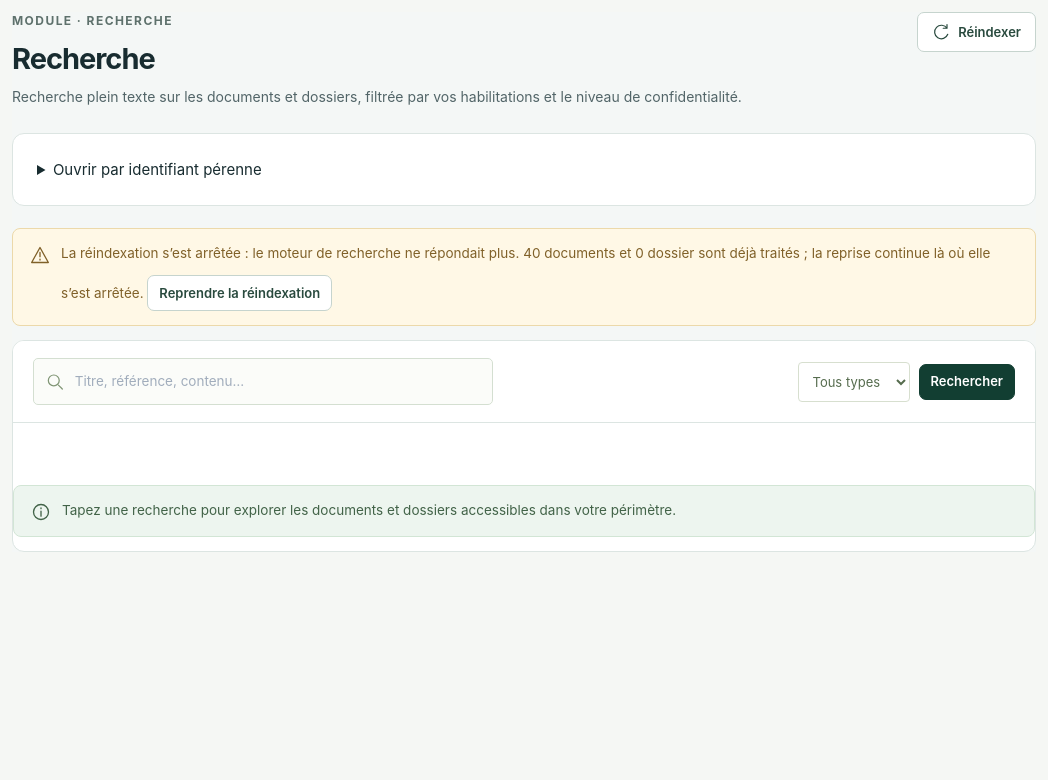
Test: une réindexation arrêtée est signalée au retour sur la page et la reprise continue la même exécution
Expected: the text "40 documents et 0 dossier sont déjà traités" is shown, [61,244,1018,311]
Click the button "Reprendre la réindexation" at (240, 293), box [147,275,332,311]
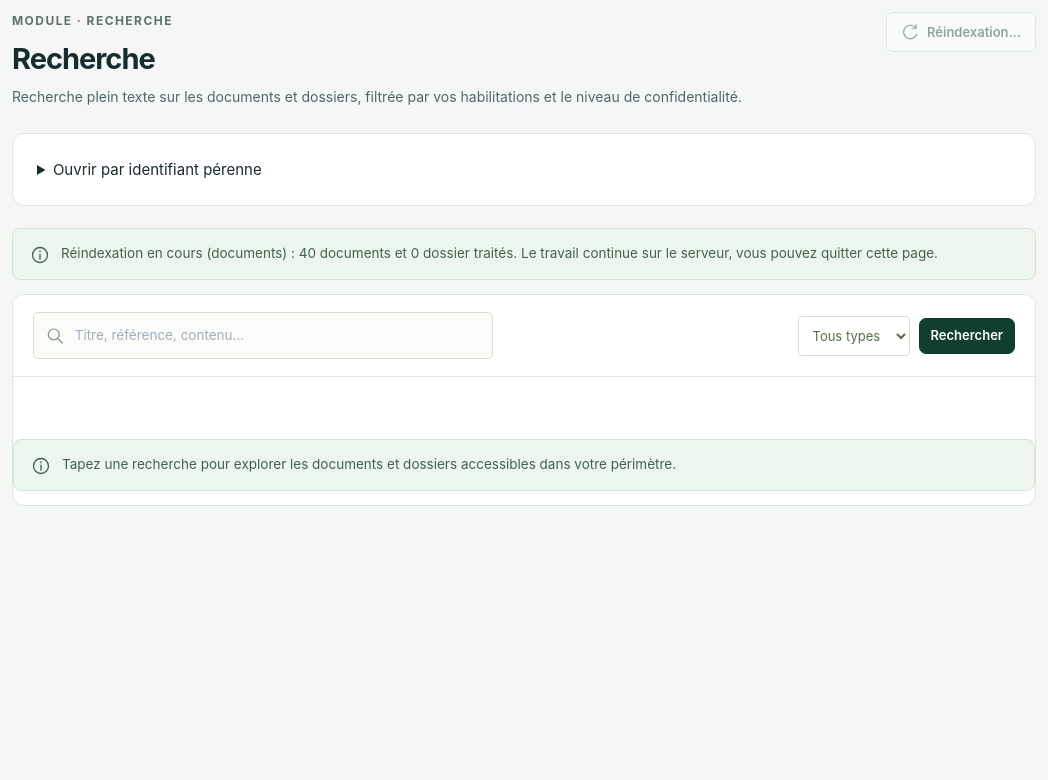
Expected: the text "Réindexation en cours" is shown, [61,246,211,262]
